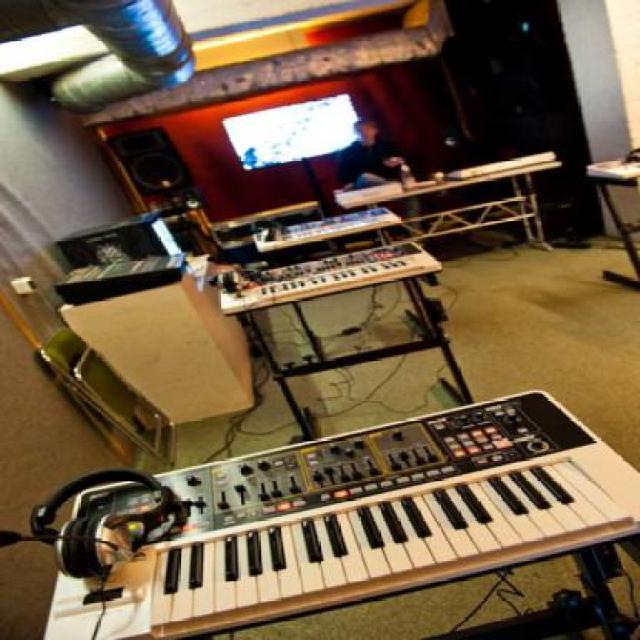earphone: (23, 458, 197, 582)
